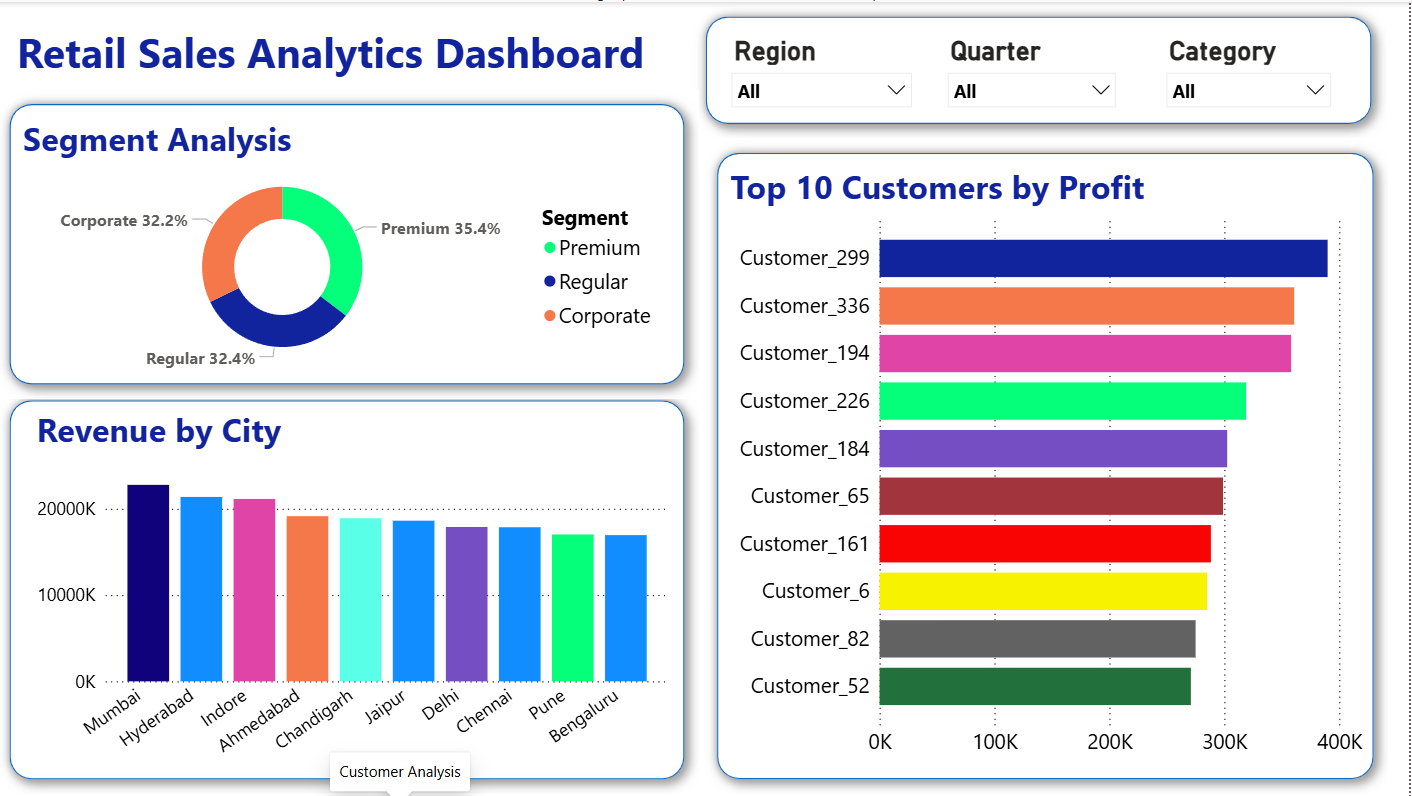

The page's visual inventory and layout, read from the dashboard file:
{"tool":"powerbi","page":{"name":"Customer Analysis","canvas":[1280,720],"ordinal":2},"visuals":[{"type":"group","id":"g1","title":"Group 1","box":[629.8,0,628.5,123.5],"z":0,"group":"g5"},{"type":"shape","box":[629.8,0,628.5,123.5],"z":0,"group":"g1"},{"type":"textbox","box":[15.1,15.1,592.8,74.1],"z":0,"group":"g9"},{"type":"group","id":"g2","title":"Group 1","box":[0,79.6,636.7,279.9],"z":0,"group":"g8"},{"type":"shape","box":[0,79.6,636.7,279.9],"z":0,"group":"g2"},{"type":"group","id":"g3","title":"Group 1","box":[639.5,123.5,620.2,592.8],"z":0,"group":"g6"},{"type":"shape","box":[639.5,123.5,620.2,592.8],"z":0,"group":"g3"},{"type":"group","id":"g4","title":"Group 1","box":[0,347.2,636.7,369.1],"z":0,"group":"g7"},{"type":"shape","box":[0,347.2,636.7,369.1],"z":0,"group":"g4"},{"type":"group","id":"g5","title":"Group 2","box":[629.8,0,628.5,123.5],"z":1000,"group":"g9"},{"type":"slicer","fields":{"Values":["Orders_Big.OrderDate.Variation.Date Hierarchy.Quarter"]},"box":[851.3,24.7,172.7,78.2],"z":1000,"group":"g5"},{"type":"donutChart","title":"Segment Analysis","fields":{"Y":["CountNonNull(Customers_Big.CustomerID)"],"Category":["Customers_Big.Segment"]},"box":[20.3,103.5,587.3,234.6],"z":1000,"group":"g8"},{"type":"barChart","title":"Top 10 Customers by Profit","fields":{"Y":["Orders_Big.Total Profit"],"Category":["Customers_Big.CustomerName"]},"box":[659.5,146.1,581.8,546.1],"z":1000,"group":"g6"},{"type":"columnChart","title":"Revenue by City  ","fields":{"Category":["Customers_Big.City"],"Y":["Sum(Orders_Big.Revenue)"]},"box":[33,366.8,581.8,329.4],"z":1000,"group":"g7"},{"type":"slicer","fields":{"Values":["Products_Big.Category"]},"box":[1049.2,24.7,168.9,79.6],"z":2000,"group":"g5"},{"type":"group","id":"g6","title":"Group 2","box":[639.5,123.5,620.2,592.8],"z":2000,"group":"g9"},{"type":"slicer","fields":{"Values":["Orders_Big.Region"]},"box":[656,24.7,183.4,74.1],"z":3000,"group":"g5"},{"type":"group","id":"g7","title":"Group 2","box":[0,347.2,636.7,369.1],"z":3000,"group":"g9"},{"type":"group","id":"g8","title":"Group 2","box":[0,79.6,636.7,279.9],"z":4000,"group":"g9"},{"type":"group","id":"g9","title":"Group 3","box":[0,0,1259.7,716.3],"z":4001}]}

Visuals, with their boxes in screenshot pixels (x1, y1, x2, y2), scaled from the page's 1280x720 canvas onto the 1412x796 screenshot:
"Group 1" group: box(695, 0, 1388, 137)
shape: box(695, 0, 1388, 137)
textbox: box(17, 17, 671, 99)
"Group 1" group: box(0, 88, 702, 397)
shape: box(0, 88, 702, 397)
"Group 1" group: box(705, 137, 1390, 792)
shape: box(705, 137, 1390, 792)
"Group 1" group: box(0, 384, 702, 792)
shape: box(0, 384, 702, 792)
"Group 2" group: box(695, 0, 1388, 137)
slicer - Orders_Big.OrderDate.Variation.Date Hierarchy.Quarter: box(939, 27, 1130, 114)
"Segment Analysis" donutChart: box(22, 114, 670, 374)
"Top 10 Customers by Profit" barChart: box(728, 162, 1369, 765)
"Revenue by City  " columnChart: box(36, 406, 678, 770)
slicer - Products_Big.Category: box(1157, 27, 1344, 115)
"Group 2" group: box(705, 137, 1390, 792)
slicer - Orders_Big.Region: box(724, 27, 926, 109)
"Group 2" group: box(0, 384, 702, 792)
"Group 2" group: box(0, 88, 702, 397)
"Group 3" group: box(0, 0, 1390, 792)
